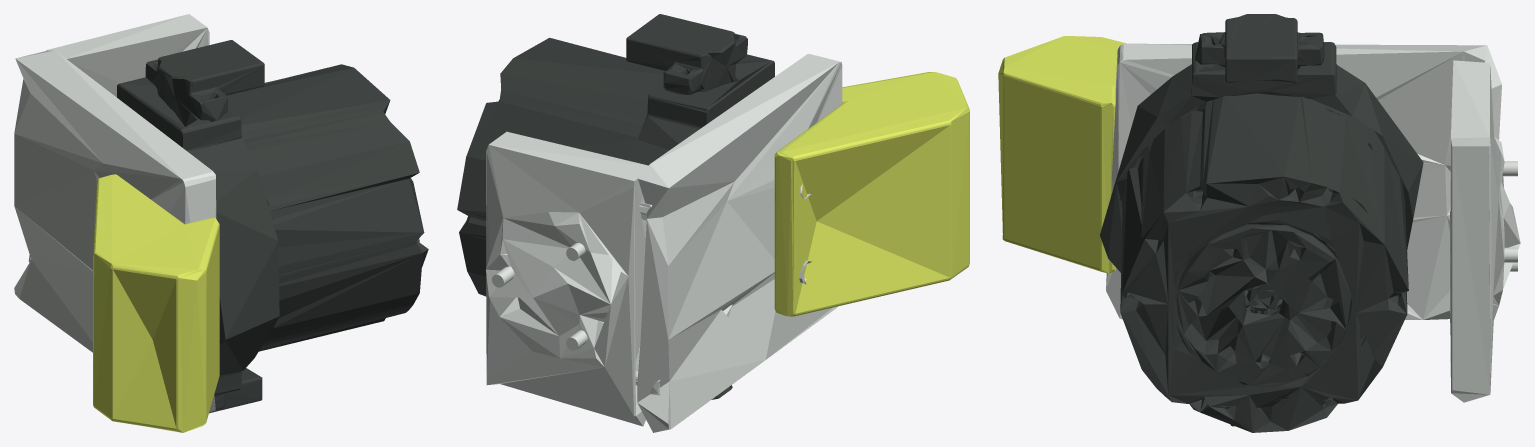
3 renders of one model, left to right at view 1: azimuth 30°, elevation 25°; view 2: azimuth 150°, elevation 25°; view 3: azimuth 270°, elevation 25°, orthographic. The views are drawn at different scales.
Parts seen in each view (by area): view 1: motor_6, cnc5, pla5_green; view 2: cnc5, pla5_green, motor_6; view 3: motor_6, cnc5, pla5_green.
Boxes of the visible parts, x1,y1,x2,y2 form: motor_6: (117, 40, 428, 413); cnc5: (14, 14, 216, 412); pla5_green: (93, 174, 219, 432); cnc5: (486, 54, 842, 432); pla5_green: (774, 72, 969, 316); motor_6: (457, 14, 774, 399); motor_6: (1100, 14, 1423, 432); cnc5: (1106, 43, 1520, 402); pla5_green: (998, 36, 1126, 273).
Size of the model in its own units: 0.0884 by 0.0818 by 0.1049.
